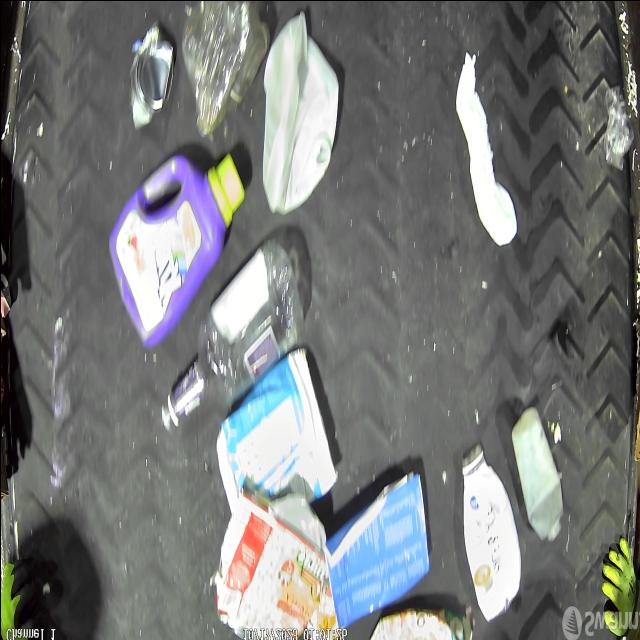can: (129, 20, 175, 130)
milk_jug: (260, 15, 340, 212)
non_white_jug: (108, 151, 244, 343)
plastic_bottle: (158, 243, 306, 431)
